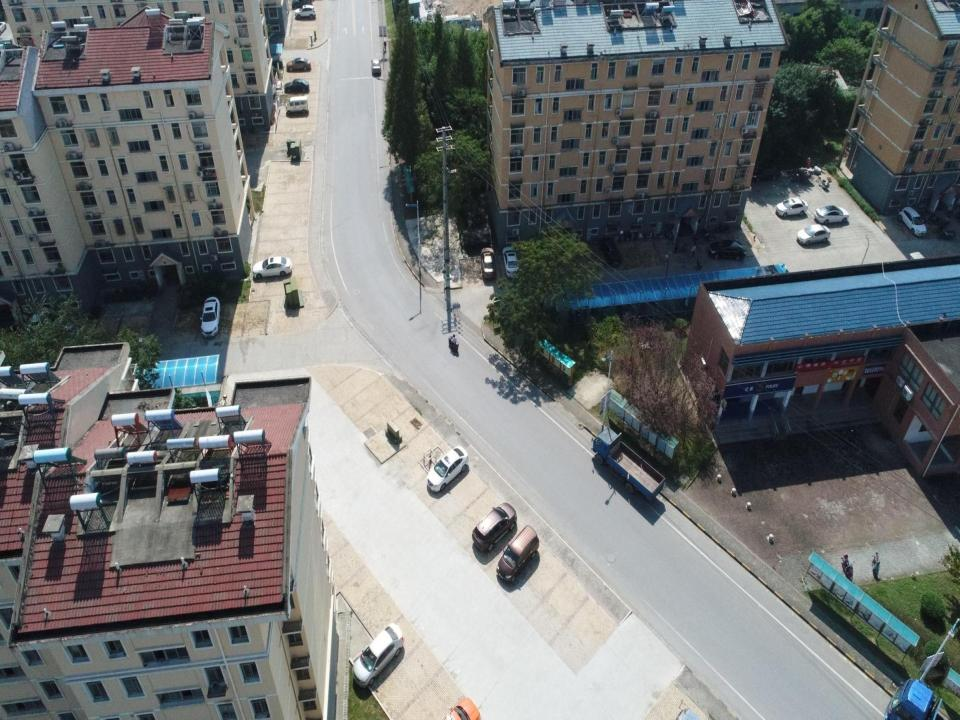car: (354, 623, 405, 689), (473, 500, 517, 553), (427, 445, 469, 493), (898, 206, 928, 236), (252, 257, 292, 279), (200, 295, 220, 338), (445, 697, 481, 719), (710, 238, 746, 259), (815, 202, 848, 224), (797, 224, 830, 245), (777, 197, 809, 216), (503, 246, 521, 279), (602, 237, 622, 265), (480, 246, 496, 278), (284, 78, 309, 94), (56, 311, 72, 336), (29, 313, 44, 335), (287, 57, 310, 70), (294, 5, 316, 18), (371, 58, 381, 76), (293, 0, 312, 9)
truck: (591, 424, 664, 500)
van: (496, 525, 541, 585), (284, 96, 309, 114)
